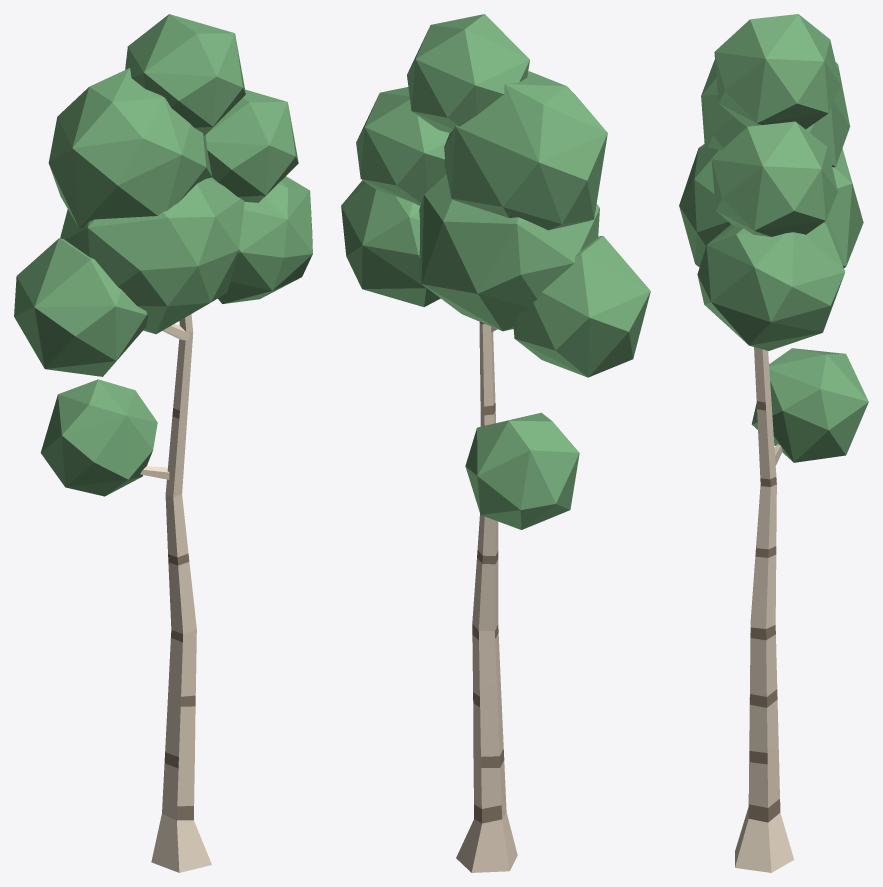
The model's file is tree-birch-tall.glb.
3 renders of one model, left to right at view 1: azimuth 30°, elevation 25°; view 2: azimuth 150°, elevation 25°; view 3: azimuth 270°, elevation 25°, orthographic. The views are drawn at different scales.
Visible parts, largest first — view 1: tree_birch_tall; view 2: tree_birch_tall; view 3: tree_birch_tall.
Part boxes in pixels (box(x1,y1,x2,y2)): tree_birch_tall: box(14, 14, 312, 872); tree_birch_tall: box(341, 14, 650, 872); tree_birch_tall: box(679, 14, 868, 872).
Size of the model in its own units: 376 by 1035 by 210.
